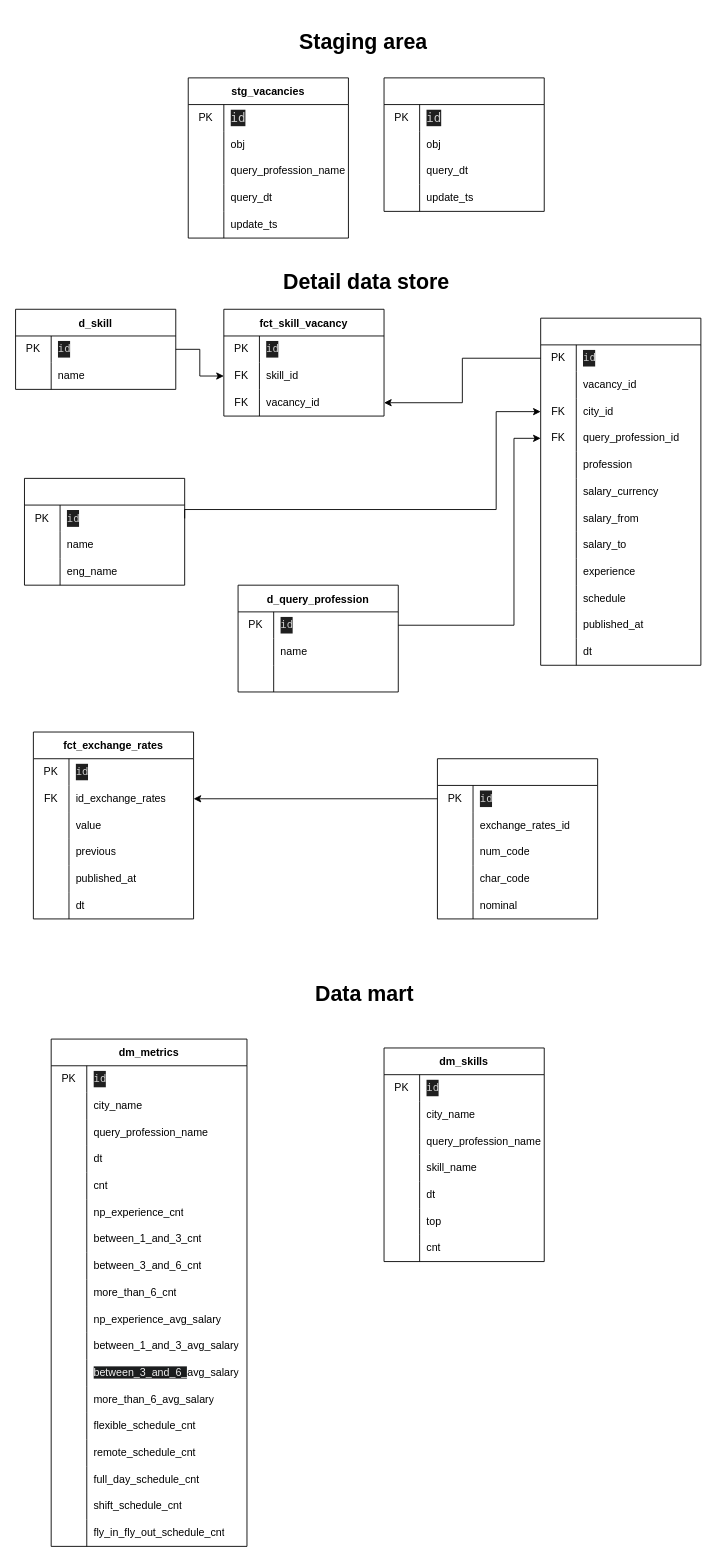
Image size: 716x1562. Some labels were removed from this diagram. Here are the shapes that lost their labels. From the top down, the box of each, then its label:
(383, 77, 544, 211): stg_exchange_rates
(540, 317, 701, 665): d_vacancies
(24, 477, 185, 585): d_city
(437, 758, 598, 919): d_exchange_rates
